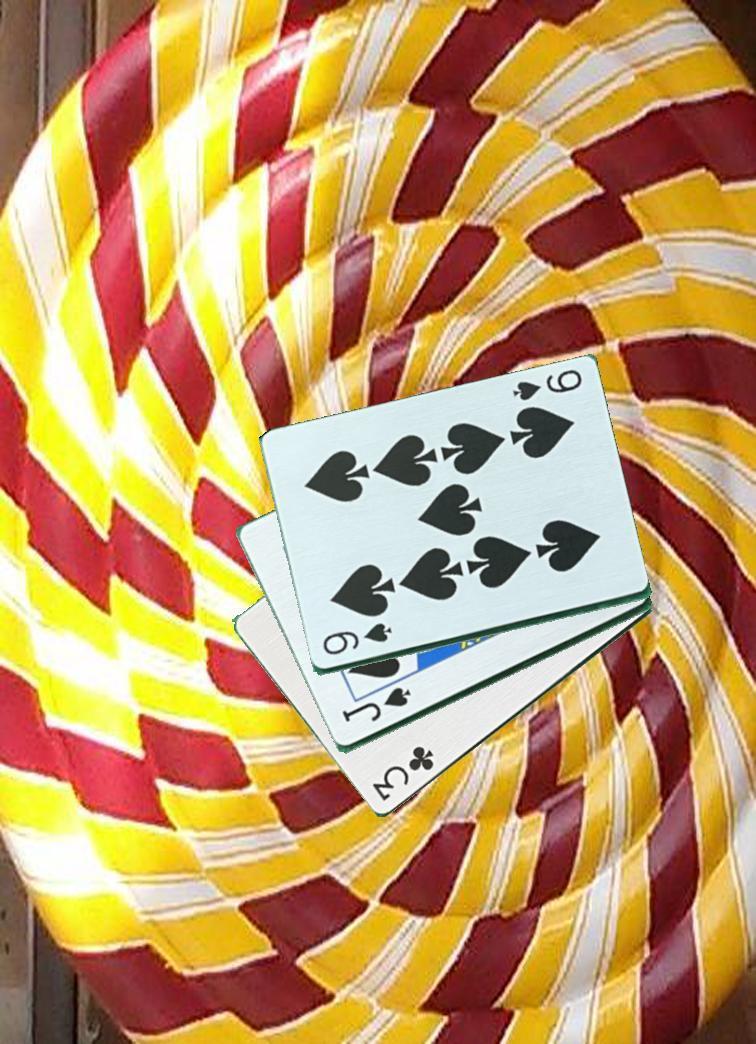3c: (369, 736, 437, 805)
9s: (509, 366, 585, 405), (319, 622, 395, 659)
js: (339, 685, 414, 726)
